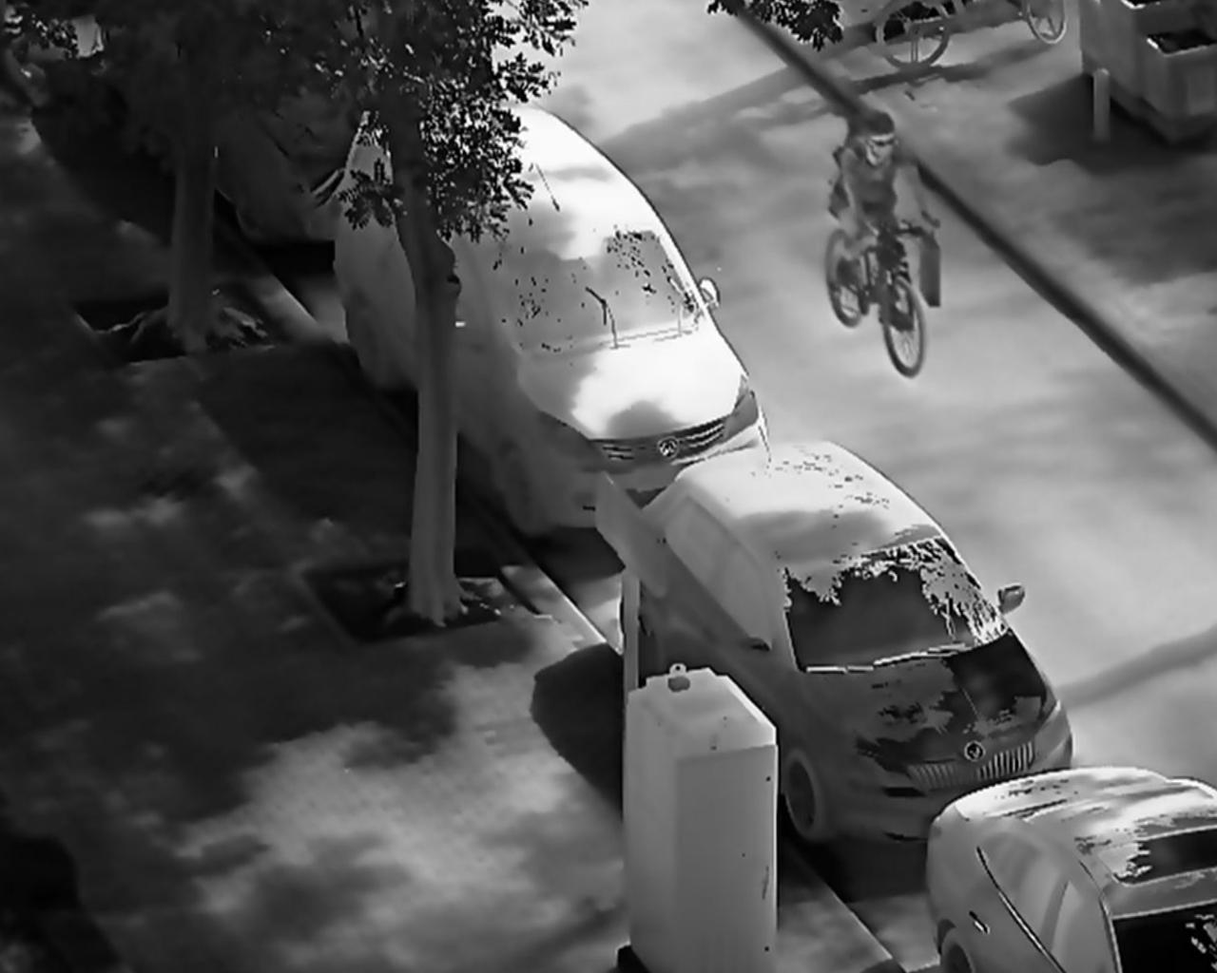person: (832, 108, 945, 331)
